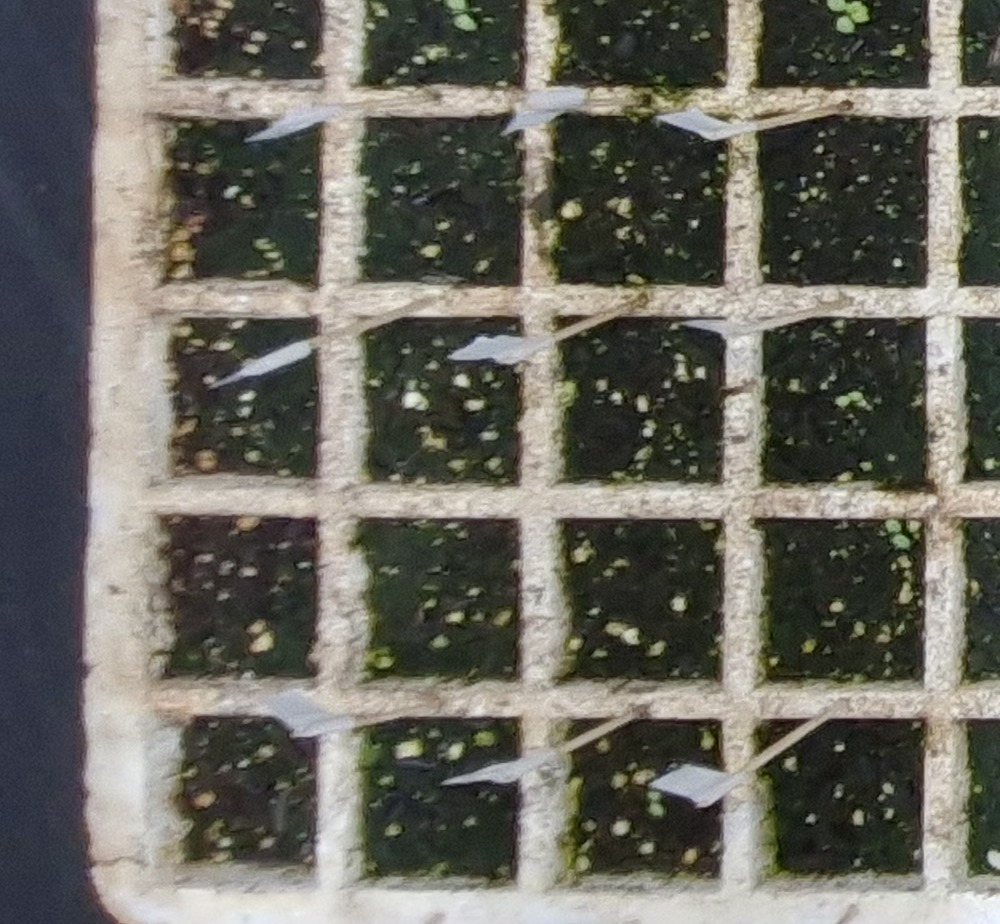Folha: (849, 1, 869, 22), (454, 14, 477, 31), (836, 15, 856, 34), (885, 518, 901, 533), (894, 535, 910, 549), (650, 802, 664, 816), (446, 0, 466, 9), (646, 791, 661, 802)
Germinacao: (827, 0, 871, 33), (886, 519, 909, 549), (647, 791, 665, 816), (966, 37, 983, 53)
